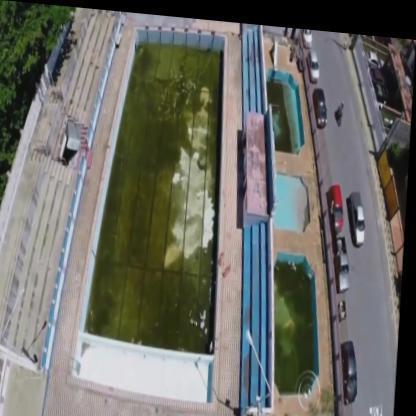agua: (113, 37, 226, 341), (280, 257, 313, 387), (268, 84, 293, 142)
